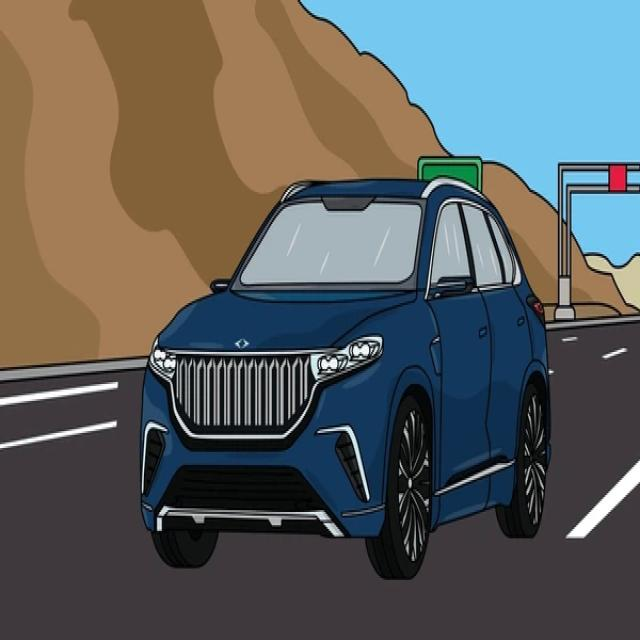togg: (234, 336, 251, 352)
